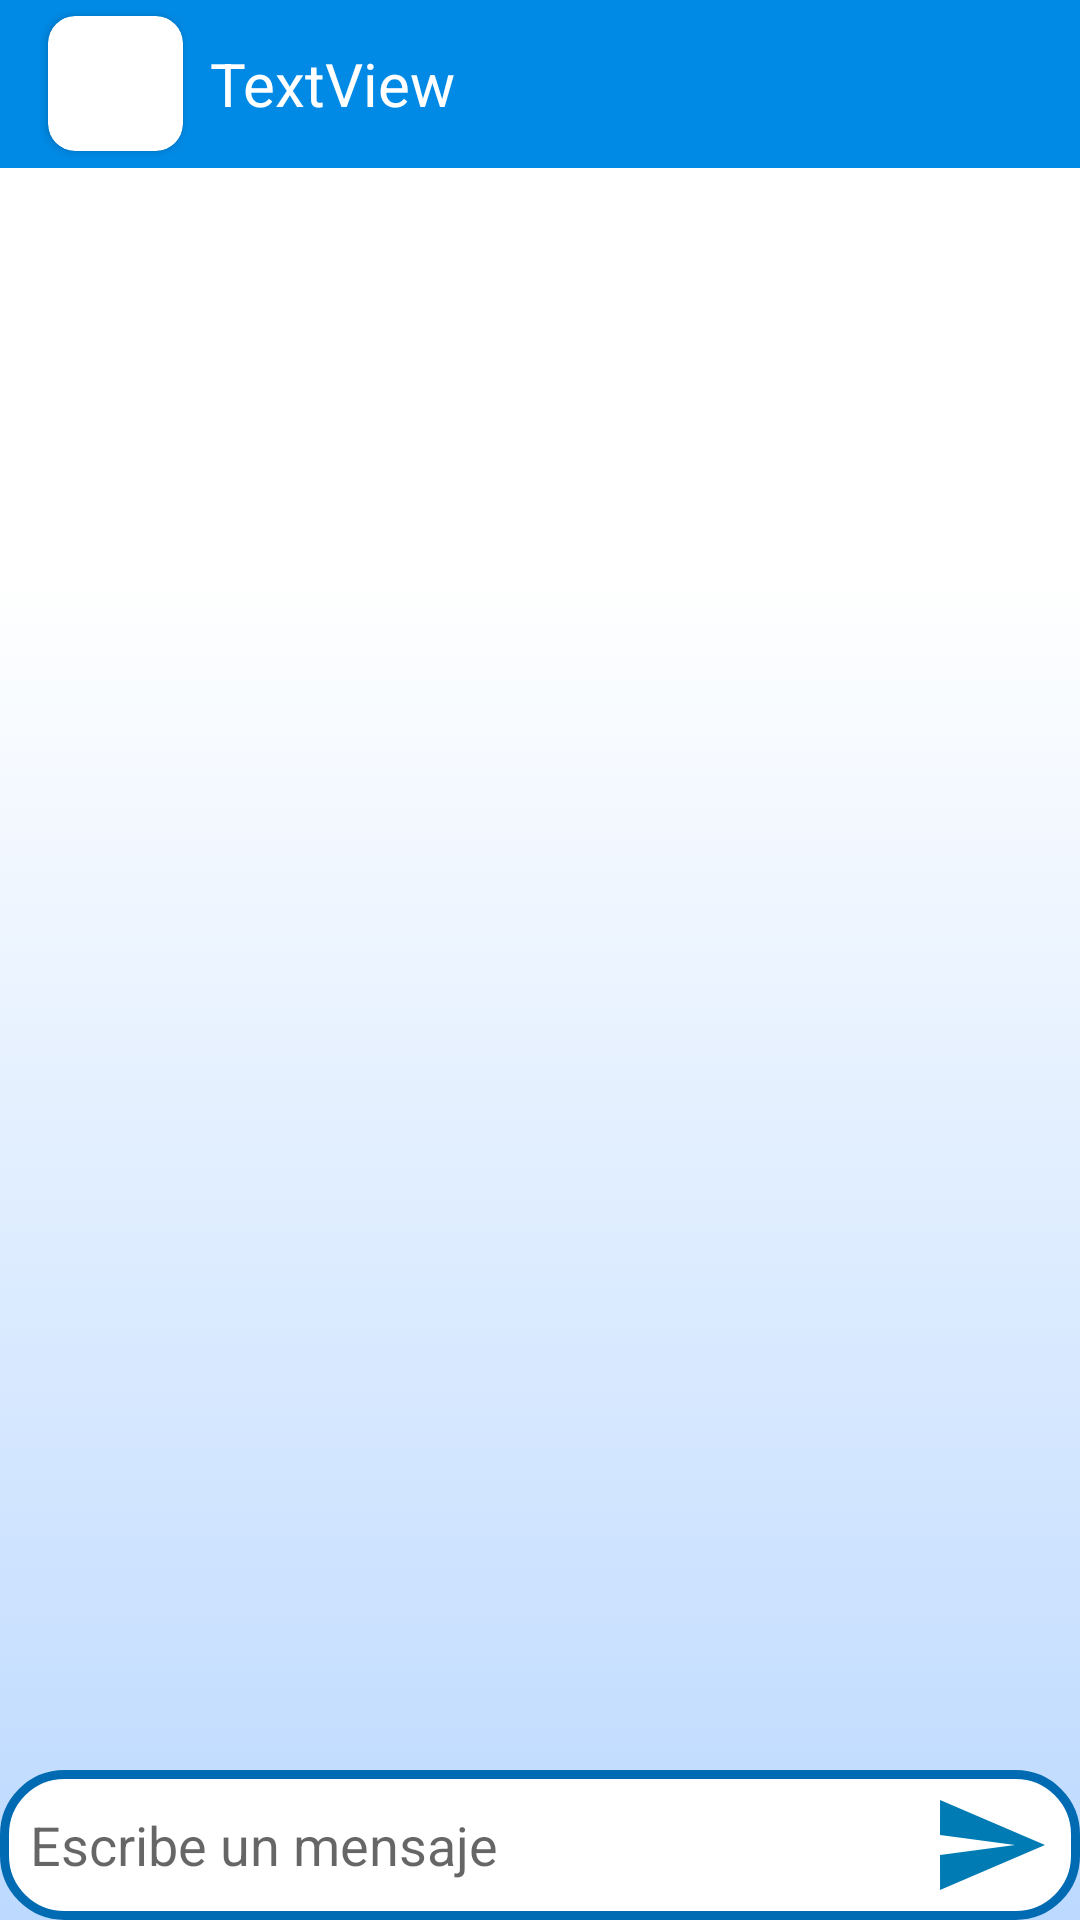

Icons on this 1080×1920 Android screen, each with the point to tap as point (x, y):
enviar: point (992, 1845)
